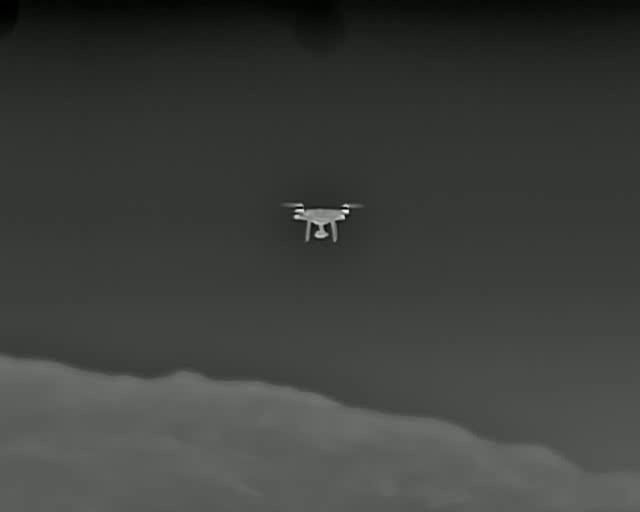DJI-Phantom: (282, 198, 362, 244)
